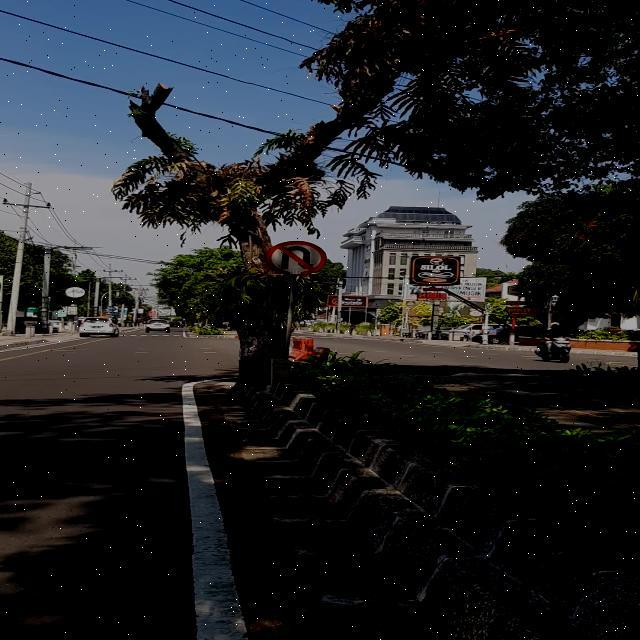Dilarang Putar Balik: (265, 240, 327, 276)
